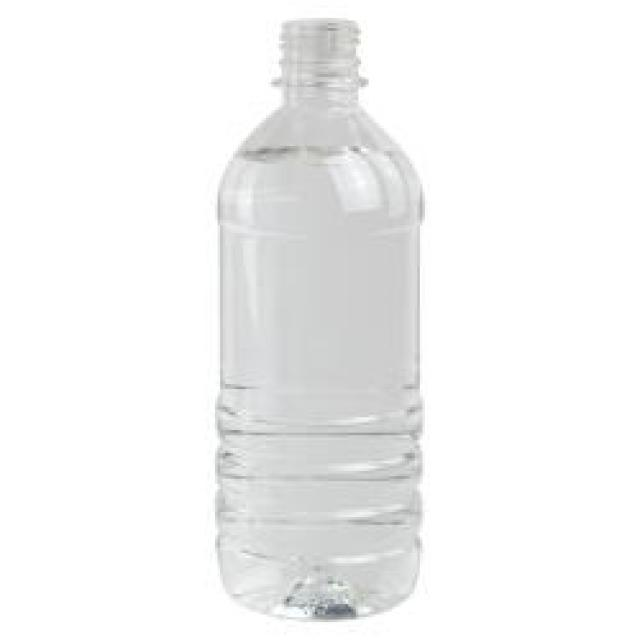bottle: (187, 3, 445, 603)
